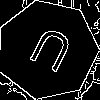U: (22, 25, 76, 82)
